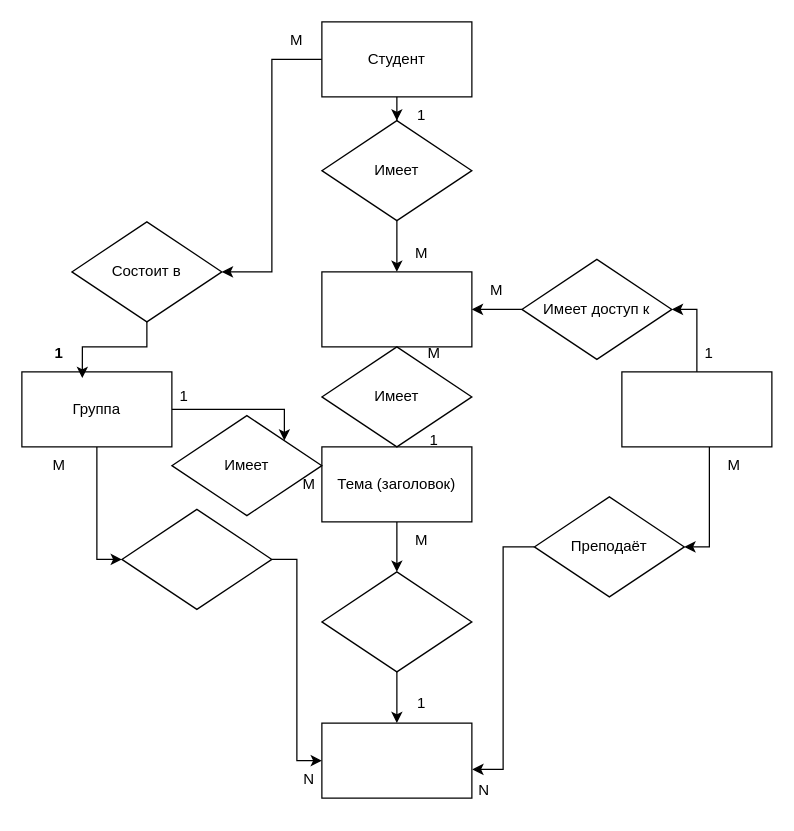
Some shapes in this 794 by 831 pixel diagram are drawn without their labels. Each missing label, with the centre of its shape:
Изучает: point 196,558
Отметка: point 396,309
По предмету: point 396,621
Предмет: point 396,760
Преподаватель: point 696,409
